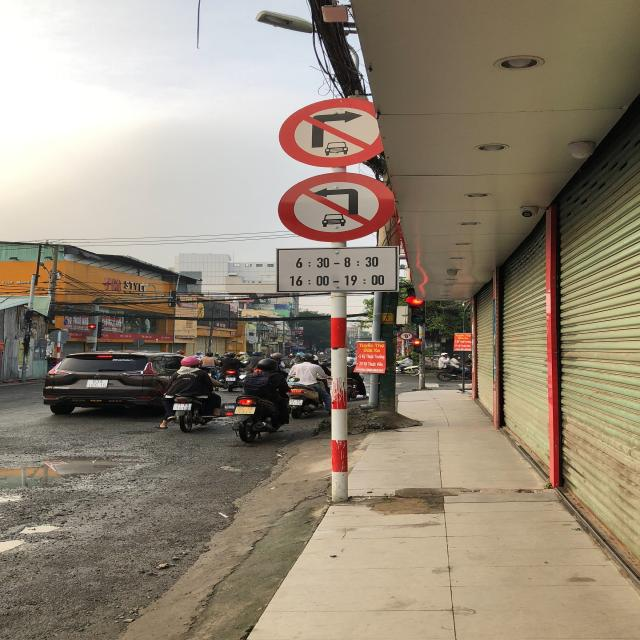Bien bao cam xe o to re phai: (280, 93, 396, 170)
Bien bao cam xe o to re trai: (273, 169, 406, 243)
